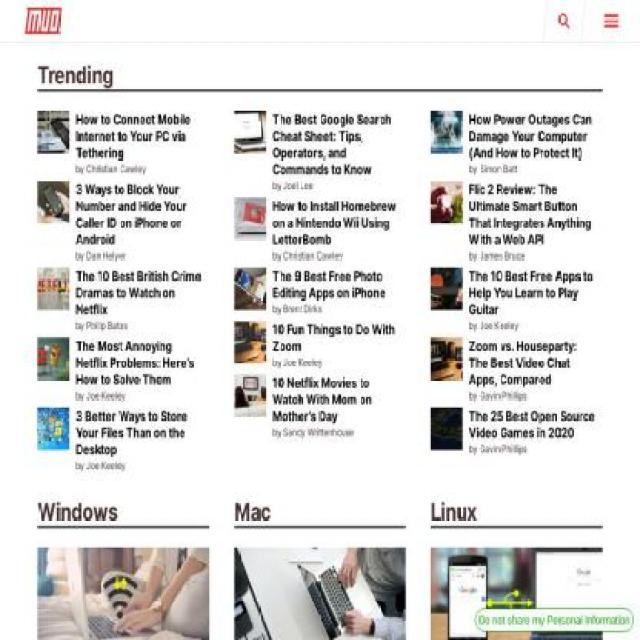button: (233, 547, 407, 639), (430, 547, 604, 639), (38, 547, 210, 639), (0, 0, 320, 42), (234, 374, 266, 418), (37, 111, 69, 154), (37, 181, 69, 224), (234, 111, 266, 154), (234, 321, 266, 364), (431, 111, 463, 154), (431, 181, 463, 224), (37, 268, 69, 310), (37, 338, 69, 380), (37, 408, 69, 450), (234, 198, 266, 240), (234, 268, 266, 310), (431, 268, 463, 310), (431, 338, 463, 380), (431, 408, 463, 450)
